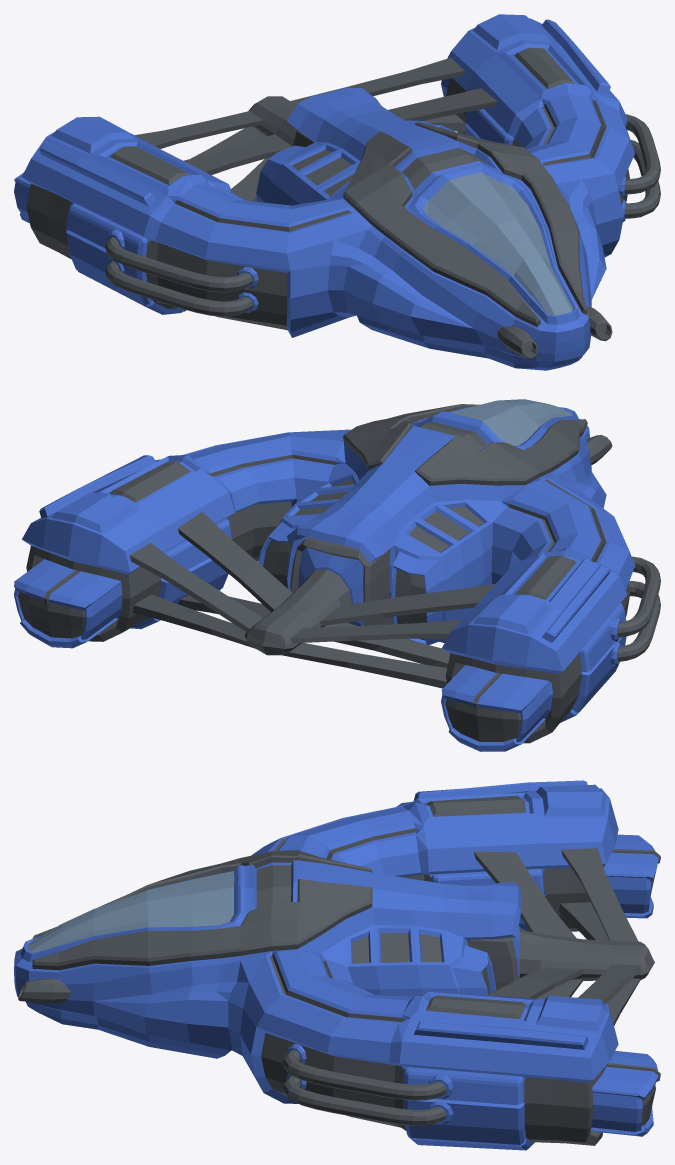
Rendered from Fighter_08_Blue.fbx.
3 views of the same model, one above another, from view 1: azimuth 30°, elevation 25°; view 2: azimuth 150°, elevation 25°; view 3: azimuth 270°, elevation 25° (orthographic). The views are drawn at different scales.
Visible parts, largest first — view 1: Fighter_08_Blue; view 2: Fighter_08_Blue; view 3: Fighter_08_Blue.
Part boxes in pixels (x1,y1,x2,y2): Fighter_08_Blue: (14, 14, 660, 370); Fighter_08_Blue: (14, 399, 660, 751); Fighter_08_Blue: (14, 780, 660, 1150).
Bounding box in the file's own units: 1805 × 539 × 1797.
3 materials, 3 textured.
